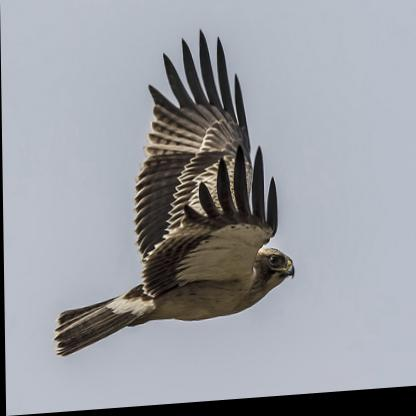Burung: (50, 30, 295, 359)
